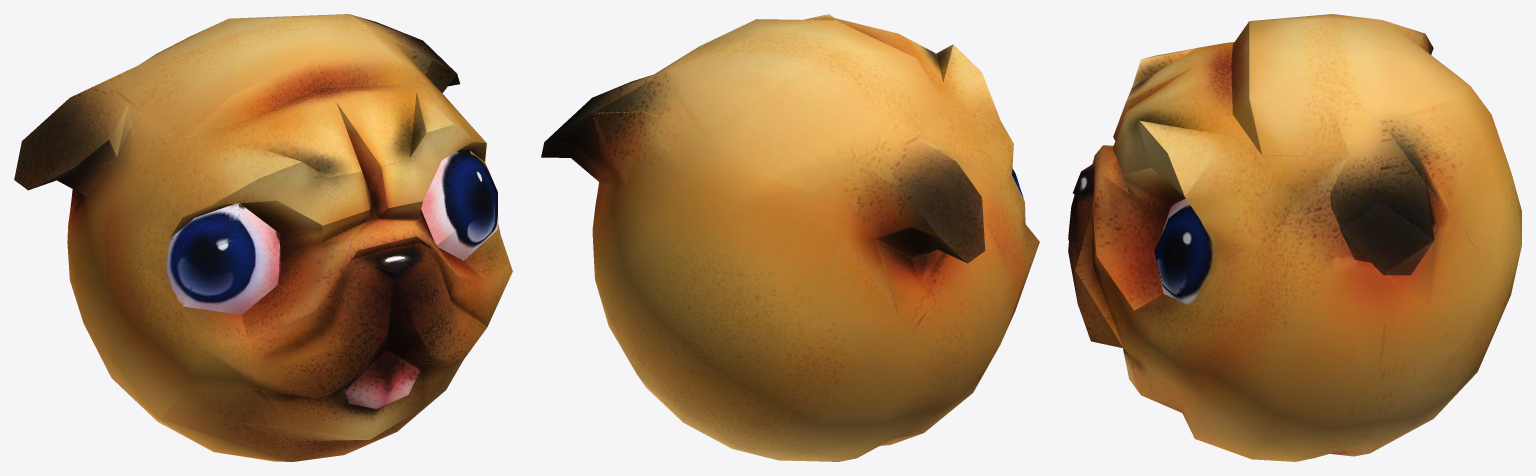
The model's file is pug_dog_ball_low_poly.glb.
3 renders of one model, left to right at view 1: azimuth 30°, elevation 25°; view 2: azimuth 150°, elevation 25°; view 3: azimuth 270°, elevation 25°, orthographic.
Parts seen in each view (by area): view 1: Polygon_Reduction_1; view 2: Polygon_Reduction_1; view 3: Polygon_Reduction_1.
Part boxes in pixels (<box>): Polygon_Reduction_1: <box>14,14,512,461</box>; Polygon_Reduction_1: <box>541,14,1039,461</box>; Polygon_Reduction_1: <box>1068,14,1521,461</box>.
Bounding box in the file's own units: 2.28 × 2.05 × 2.07.
1 material, 1 textured.
